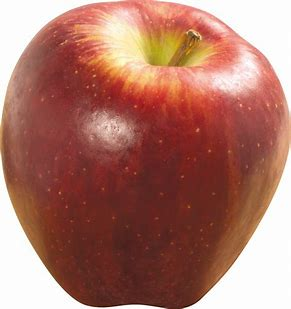apple: (1, 1, 290, 308)
